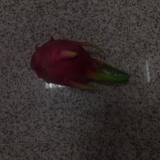pitaya: (32, 38, 125, 89)
